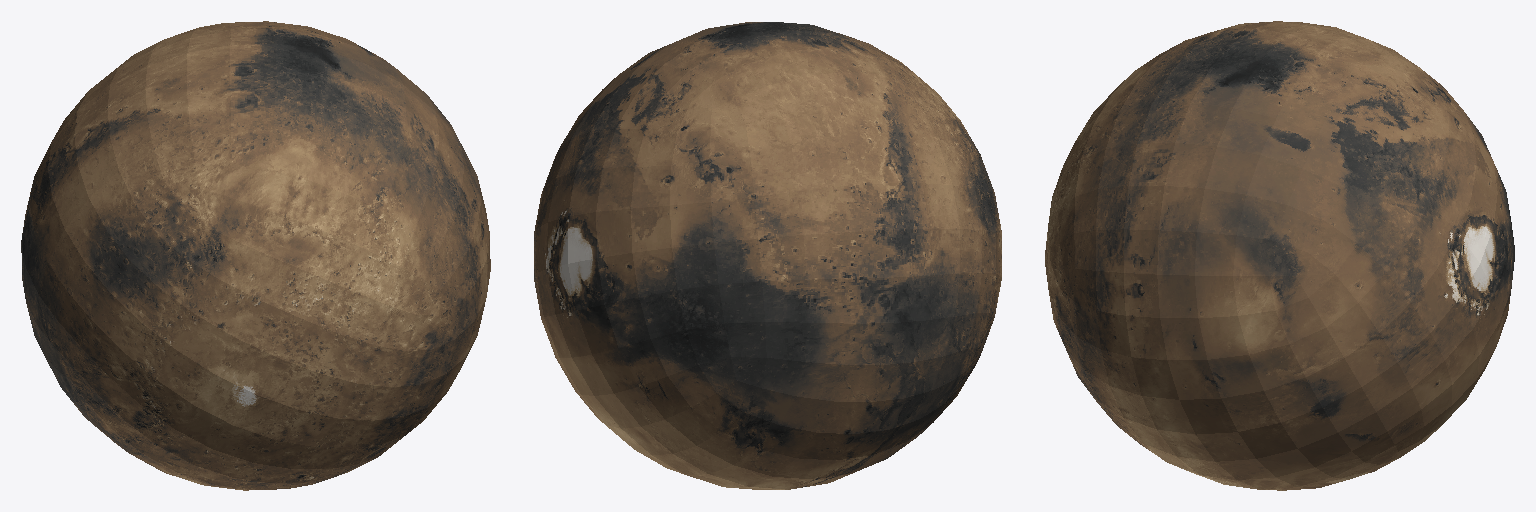
The picture shows the model from 3 angles: view 1: azimuth 30°, elevation 25°; view 2: azimuth 150°, elevation 25°; view 3: azimuth 270°, elevation 25°; orthographic projection.
Parts seen in each view (by area): view 1: Mars_Cube.002; view 2: Mars_Cube.002; view 3: Mars_Cube.002.
Boxes of the visible parts, <box> form: Mars_Cube.002: <box>21,21,490,490</box>; Mars_Cube.002: <box>534,22,1001,489</box>; Mars_Cube.002: <box>1045,21,1514,490</box>.
Size of the model in its own units: 6.76 by 6.76 by 6.78.
1 materials, 1 textured.